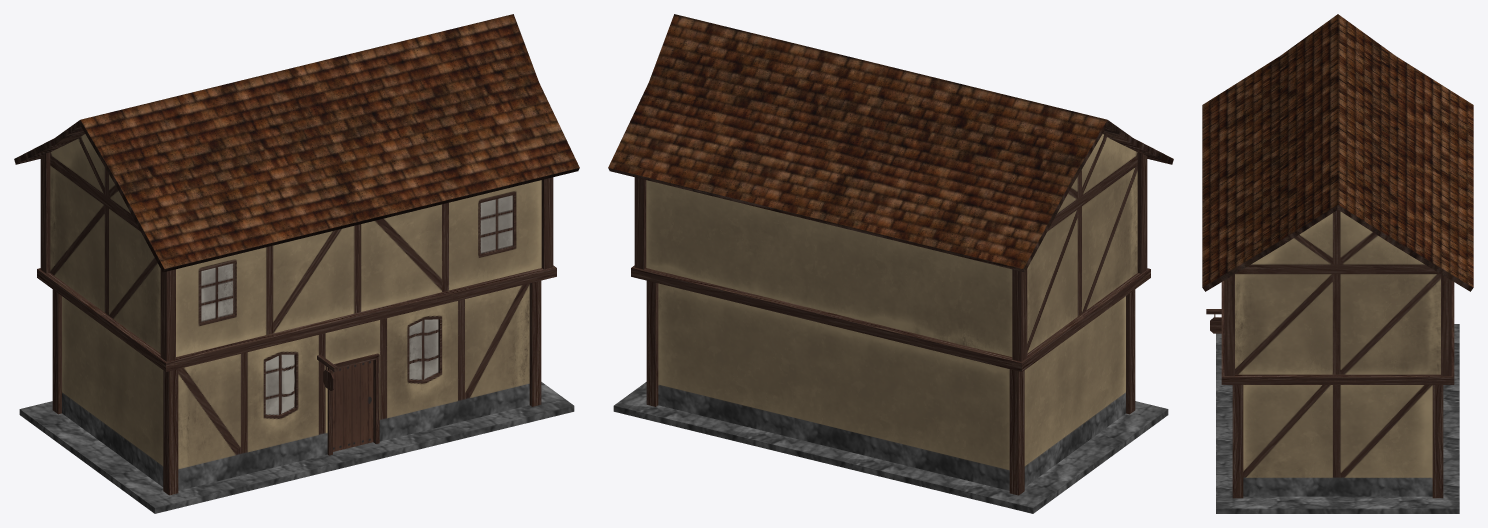
The model's file is hl_club.glb.
3 renders of one model, left to right at view 1: azimuth 30°, elevation 25°; view 2: azimuth 150°, elevation 25°; view 3: azimuth 270°, elevation 25°, orthographic. The views are drawn at different scales.
Visible parts, largest first — view 1: Tavern; view 2: Tavern; view 3: Tavern.
Boxes of the visible parts, x1=… form: Tavern: x1=14, y1=14, x2=579, y2=513; Tavern: x1=608, y1=14, x2=1173, y2=513; Tavern: x1=1202, y1=14, x2=1473, y2=513.
Bounding box in the file's own units: 11.2 × 8.55 × 6.73.
1 material, 1 textured.
